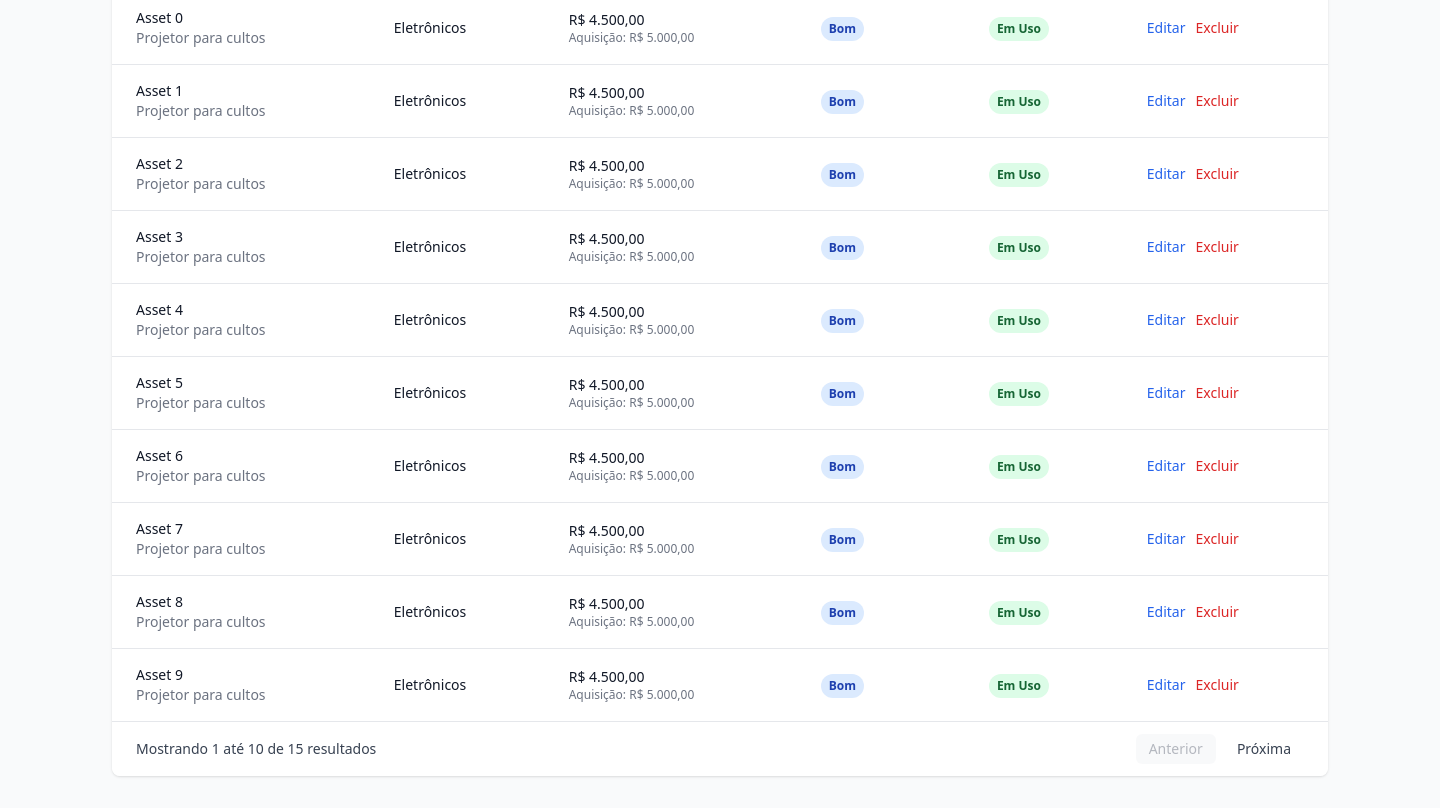
AssetsManagementPage › Pagination › should navigate to next page
(page scrolled)
Expected: the text "Asset 0" is shown, [136, 8, 183, 27]
Click the button "Próxima": (1264, 749) [1224, 734, 1304, 764]
(page scrolled)
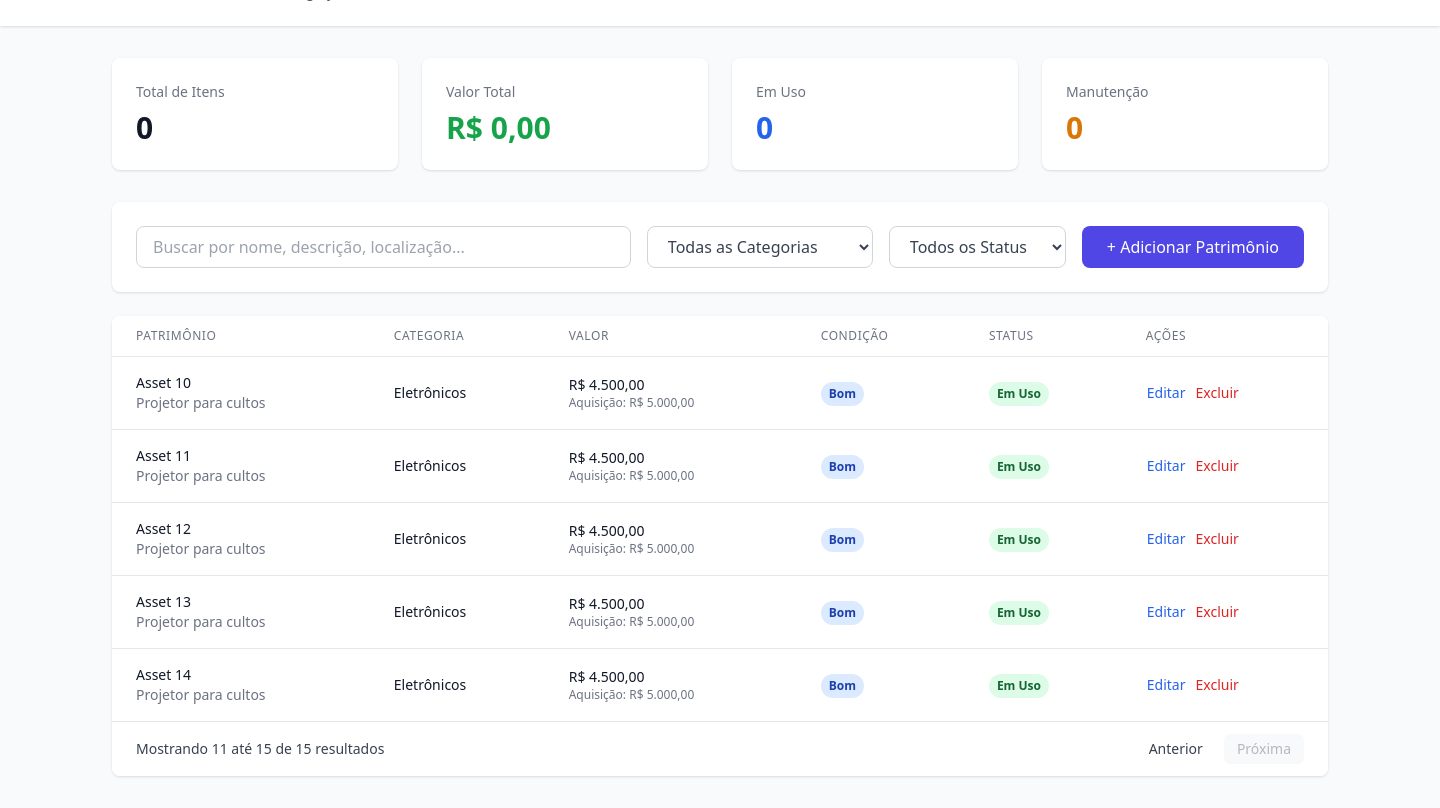
Result: the text "Asset 10" is shown at [136, 373, 191, 392]
Result: the text "Asset 0" is gone
